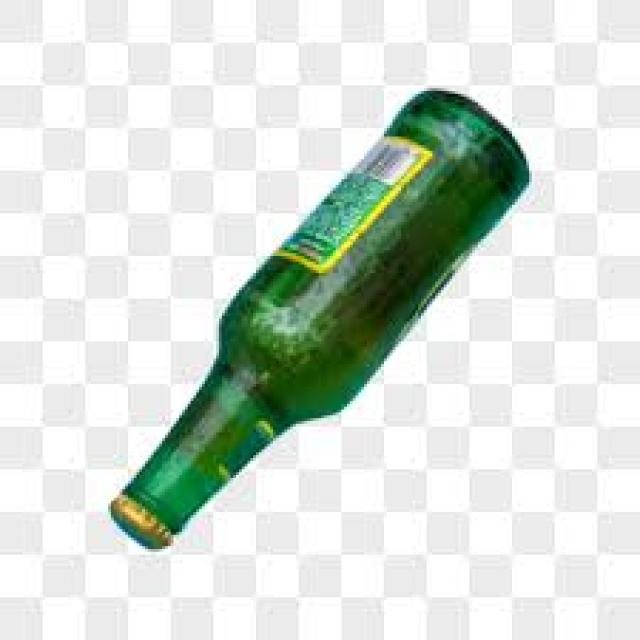glass: (120, 86, 529, 527)
metal: (105, 490, 171, 544)
